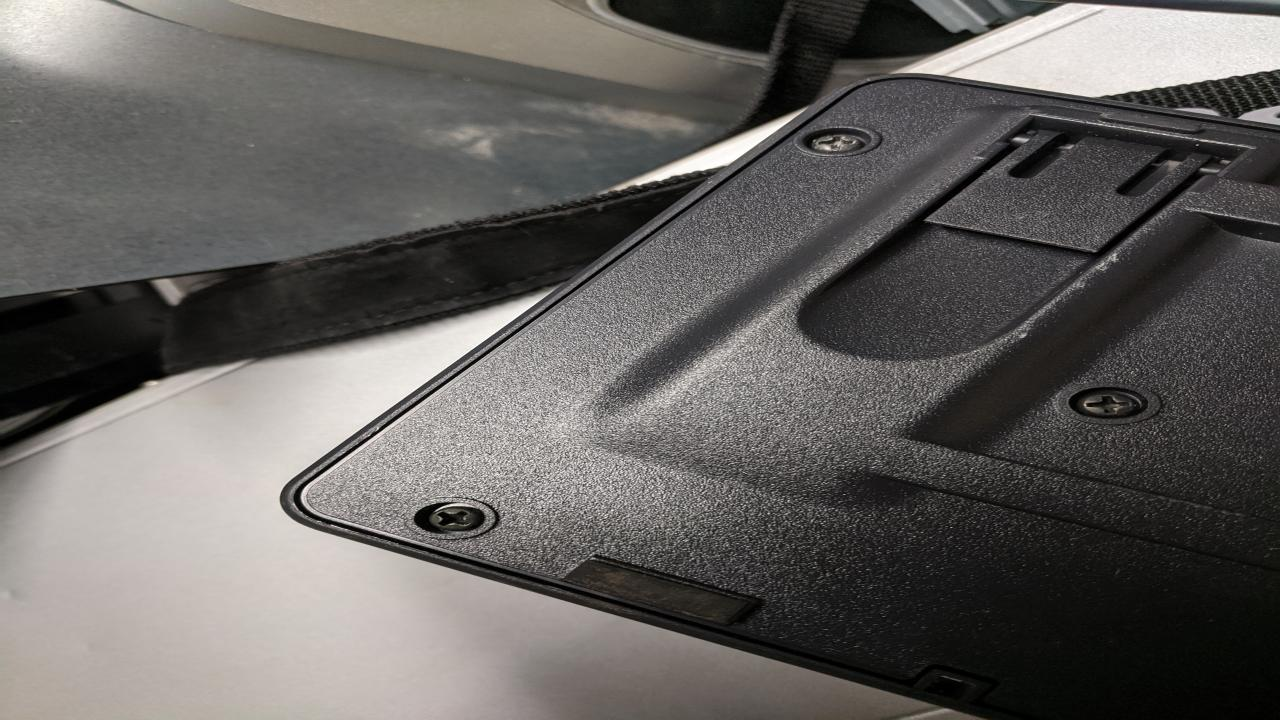CRS: (1069, 390, 1145, 418), (420, 504, 486, 532), (808, 129, 863, 155)
